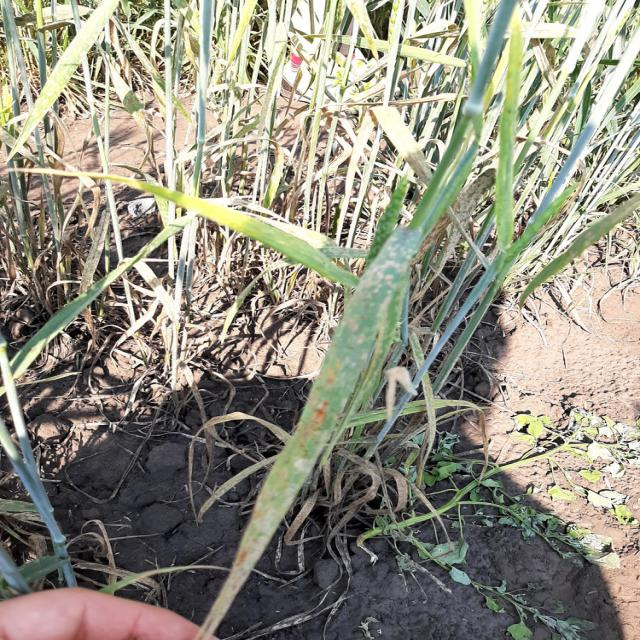wheat-powdery-mildew: (193, 228, 423, 640)
